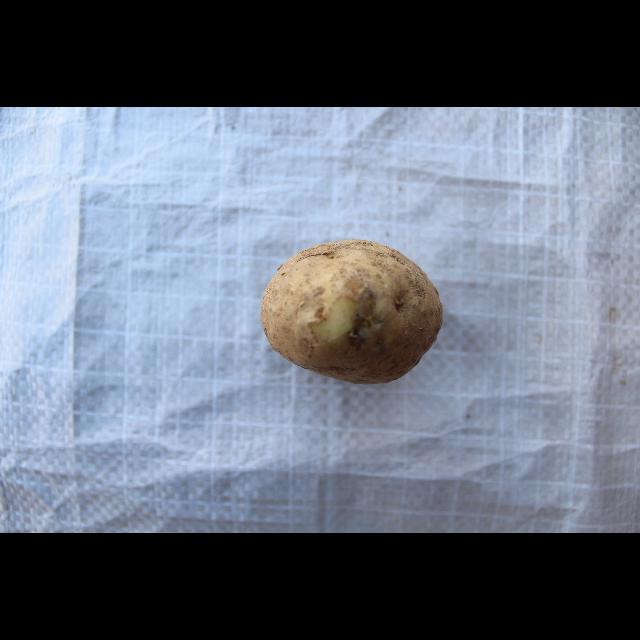Diseased-fungal potato: (261, 234, 447, 388)
